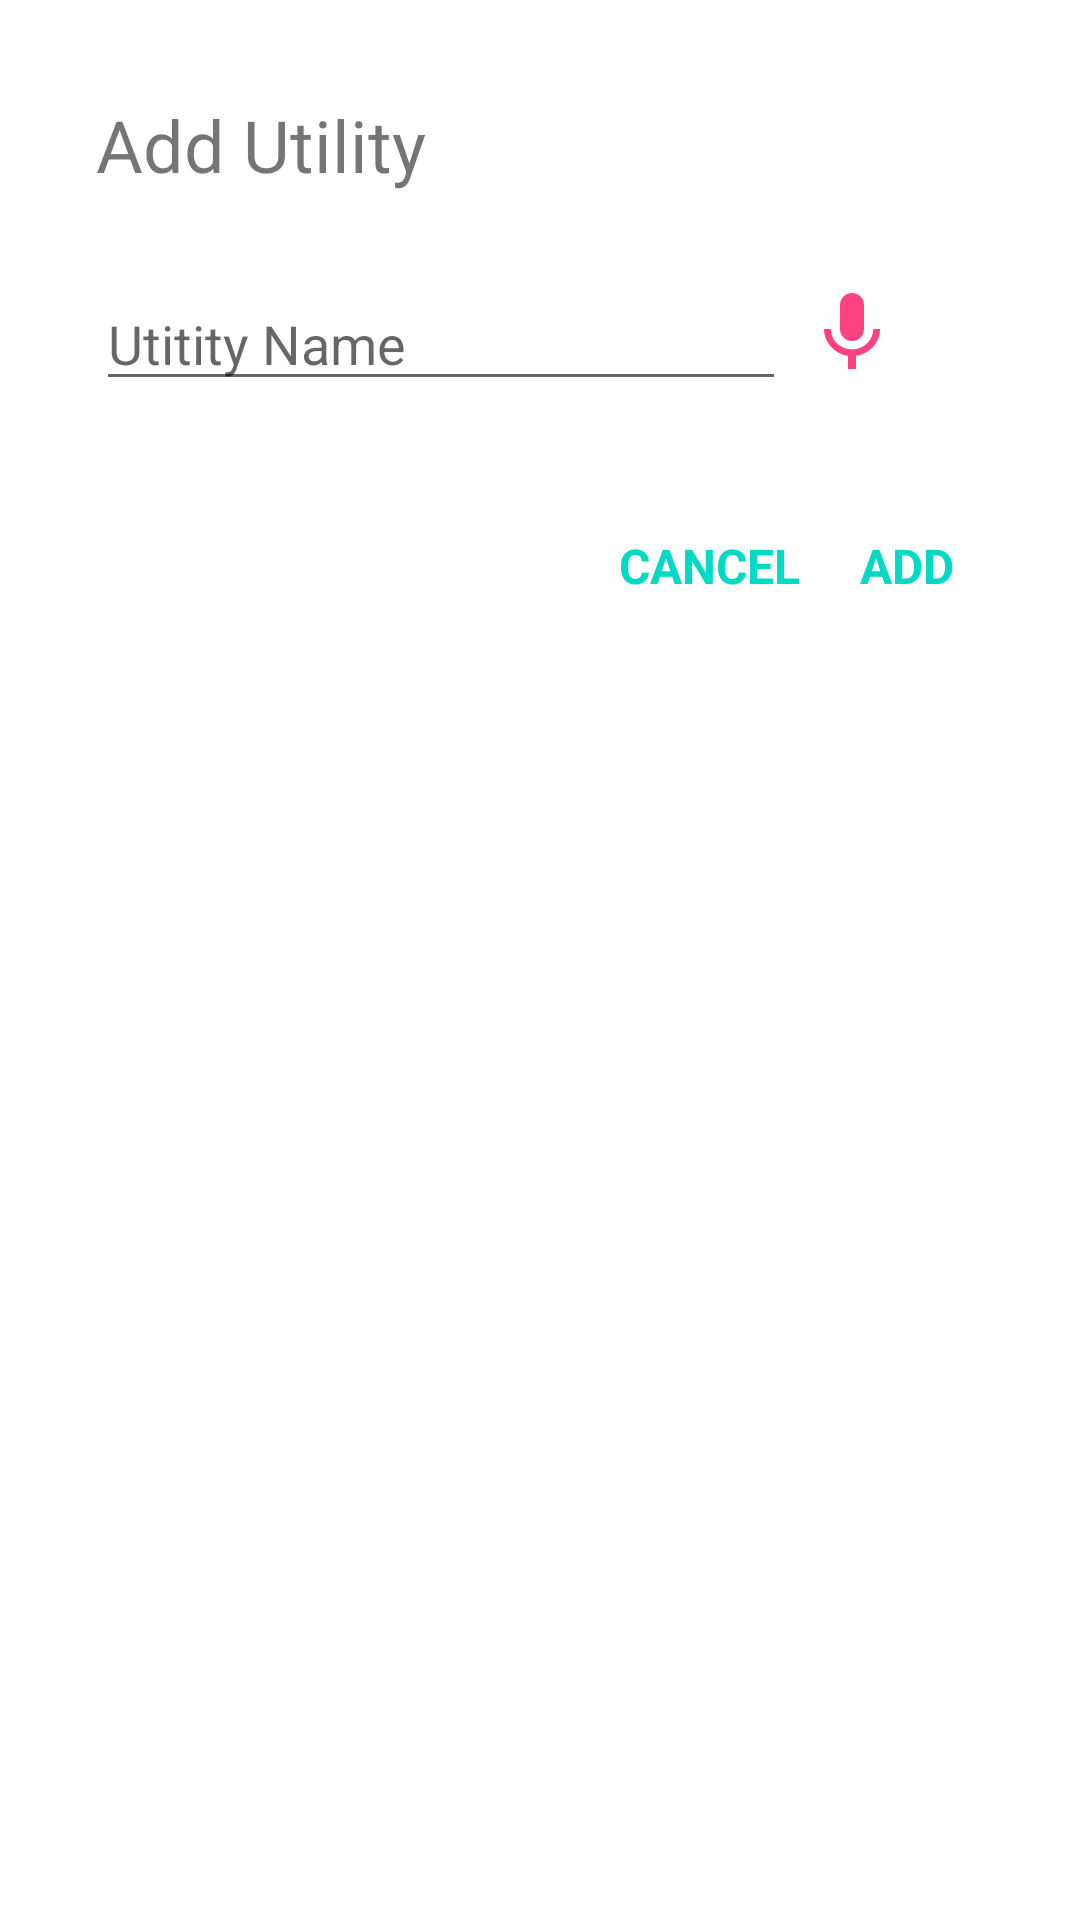

Where icons sit on this 1080*1920 app screen, as (x1, y1, x2, y2):
mic acc: (824, 293, 880, 369)
